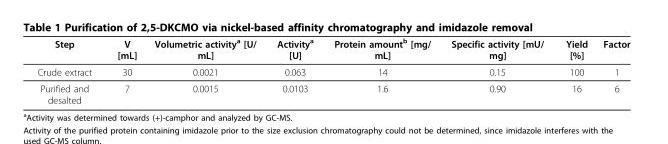table: (36, 36, 629, 105)
table column: (144, 36, 265, 105), (323, 36, 440, 105), (440, 36, 554, 105), (36, 36, 103, 105), (265, 36, 323, 105), (103, 36, 144, 105), (554, 36, 594, 105), (594, 36, 629, 105)
table column header: (36, 36, 629, 63)
table row: (36, 36, 629, 63), (36, 79, 629, 105), (36, 63, 629, 79)
